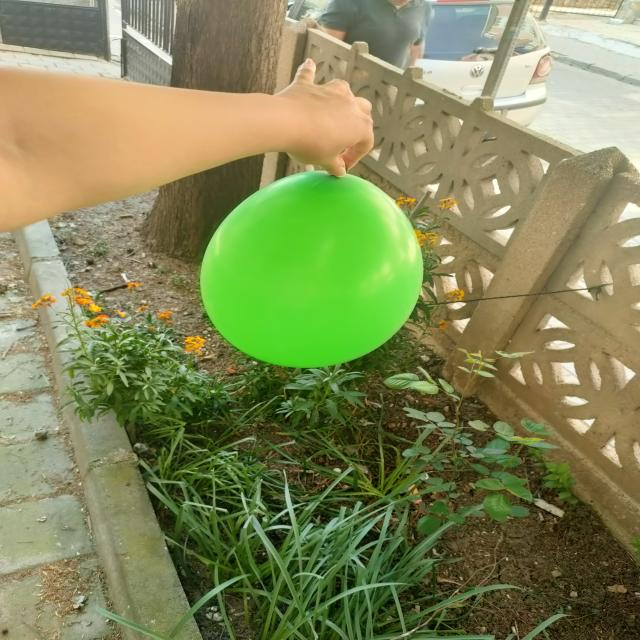green: (199, 169, 428, 370)
